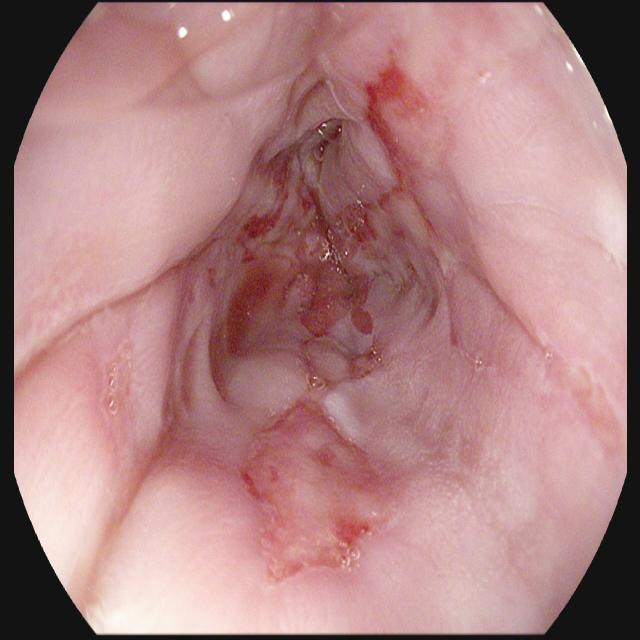esophagitis: (17, 1, 523, 630)
